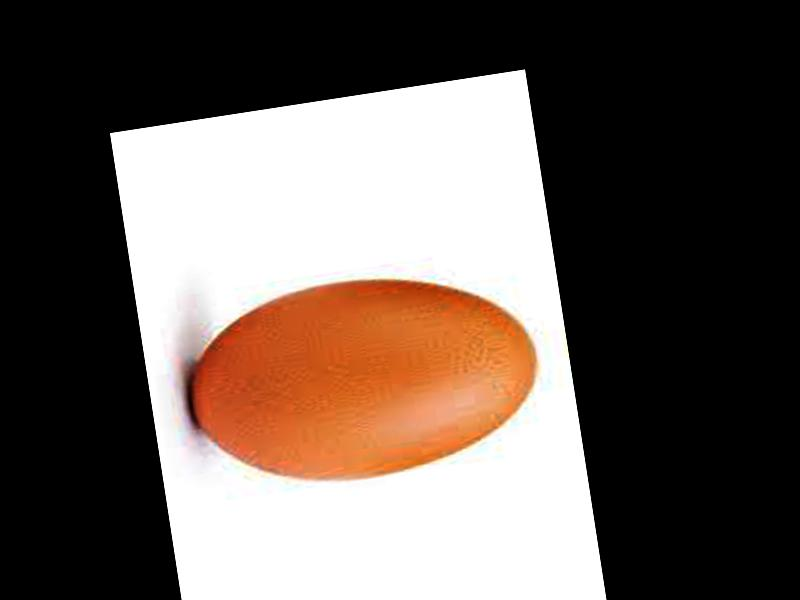Eggs: (177, 256, 549, 499)
